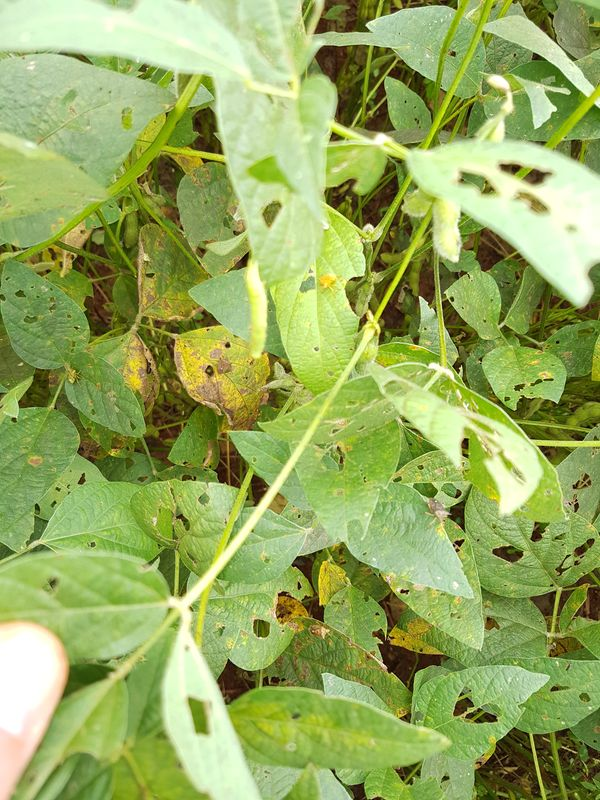Anticarsia_gemmatalis: (225, 247, 297, 370)
Euschistus_heros_adulto: (411, 490, 464, 535), (301, 619, 336, 644)
Euschistus_heros_ninfa: (309, 261, 351, 301), (62, 365, 84, 387)
